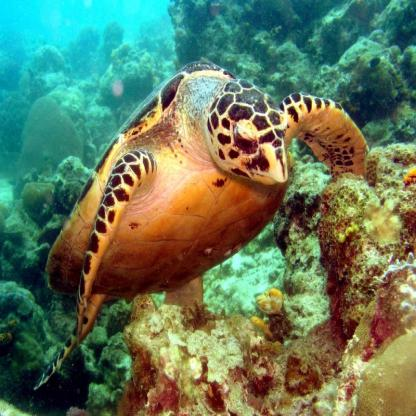turtle: (200, 74, 295, 198)
